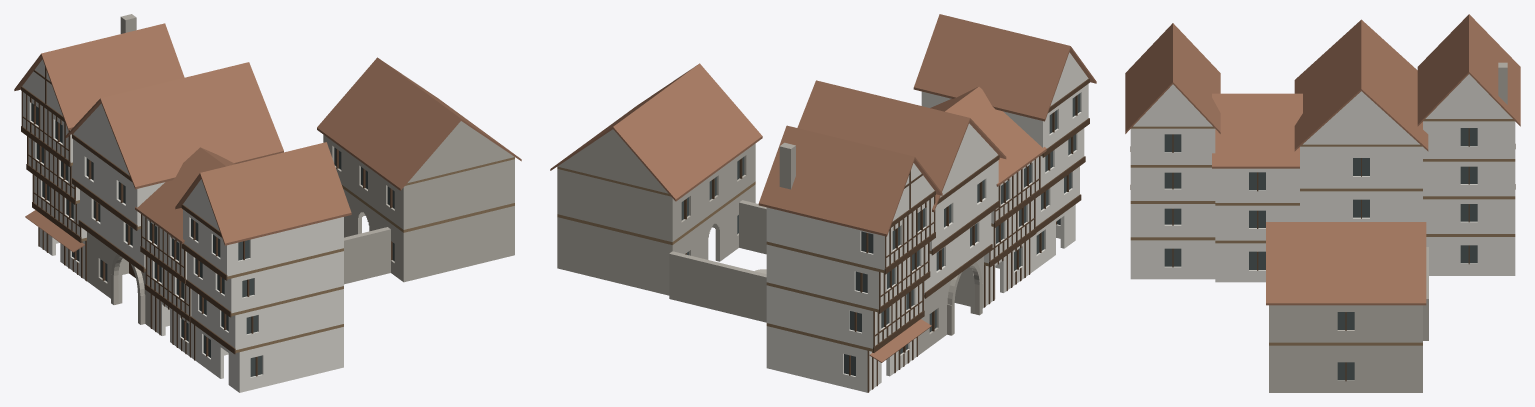
Rendered from bartholomew-terrace.glb.
3 renders of one model, left to right at view 1: azimuth 30°, elevation 25°; view 2: azimuth 150°, elevation 25°; view 3: azimuth 270°, elevation 25°, orthographic. The views are drawn at different scales.
Parts seen in each view (by area): view 1: chimney-corner-house; view 2: chimney-corner-house; view 3: chimney-corner-house.
Boxes of the visible parts, x1,y1,x2,y2 form: chimney-corner-house: (14,14,521,392); chimney-corner-house: (550,14,1096,392); chimney-corner-house: (1125,14,1520,392).
Size of the model in its own units: 26.9 by 14.8 by 25.7.
